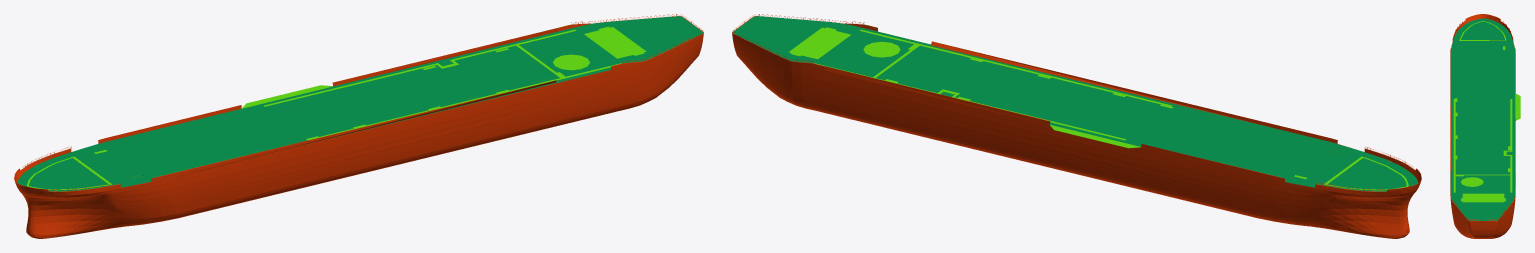
Rendered from 04xxx-AMMONIA FLOATER-FOR-POSITION.glb.
3 views of the same model, side by side, from view 1: azimuth 30°, elevation 25°; view 2: azimuth 150°, elevation 25°; view 3: azimuth 270°, elevation 25° (orthographic). The views are drawn at different scales.
Visible parts, largest first — view 1: 3D Face Set, 3D Face Set.004, Region.189; view 2: 3D Face Set, 3D Face Set.004, Region.189; view 3: 3D Face Set.004, 3D Face Set, Region.189.
Boxes of the visible parts, box(x1,y1,x2,y2) form: 3D Face Set: box(14, 14, 703, 238); 3D Face Set.004: box(17, 16, 702, 191); Region.189: box(27, 24, 646, 190); 3D Face Set: box(732, 14, 1421, 238); 3D Face Set.004: box(733, 16, 1417, 191); Region.189: box(789, 24, 1408, 190); 3D Face Set.004: box(1450, 18, 1515, 220); 3D Face Set: box(1450, 14, 1515, 238); Region.189: box(1453, 21, 1520, 202).
Bounding box in the file's own units: 333 × 27.46 × 48.8.
